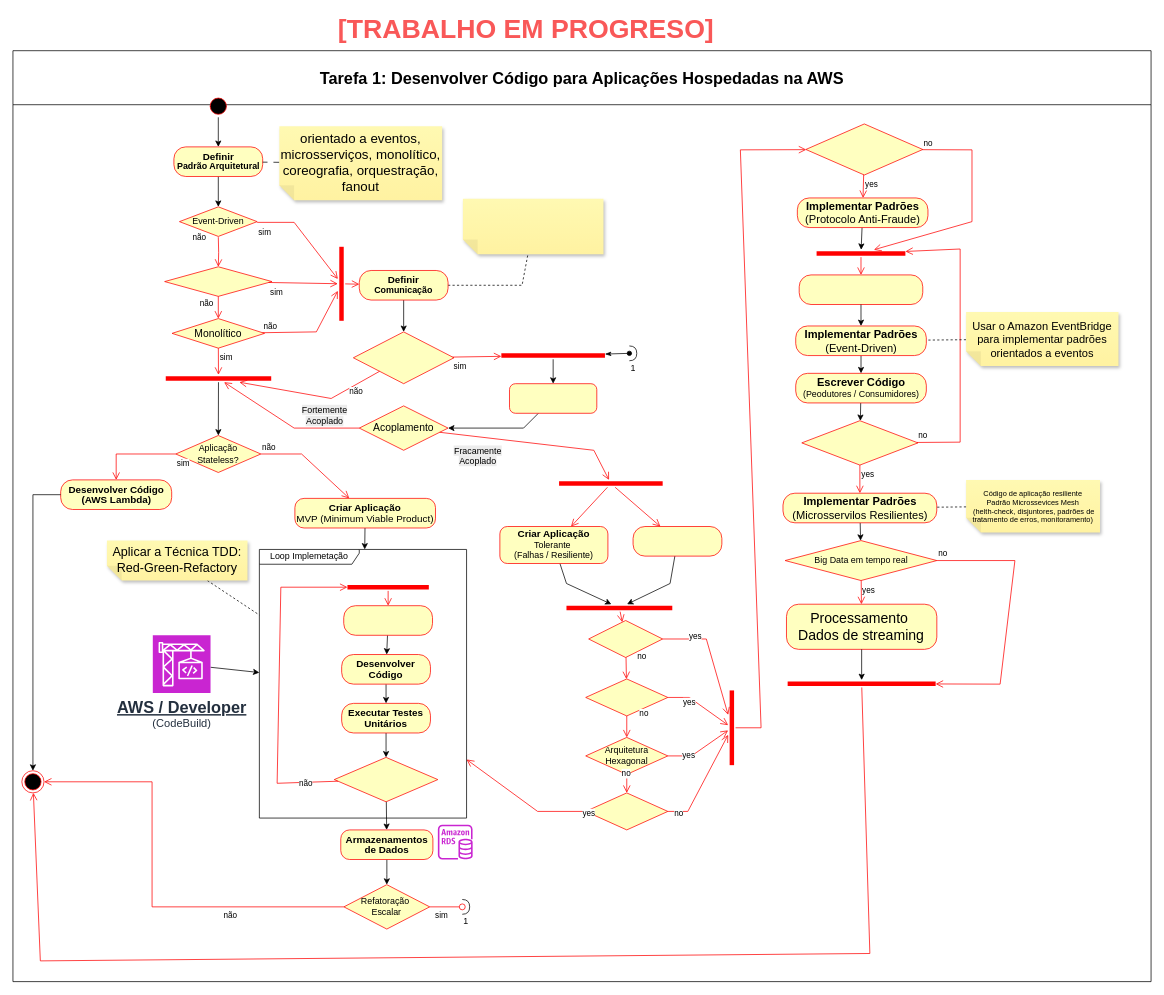
The diagram is 1164 pixels wide and 995 high, and some of its shapes have lost their labels. The shapes that lost their labels are listed below. From the top down, each one's centre as x and y in pixels, then its label:
At point 864,149: "Arquitetura Event-Sourceing".
At point 534,227: "Padrões Síncronos ( Orquestração ) e Assíncronos ( Coreografia )".
At point 218,281: "Microsserviços".
At point 860,289: "Serviços de Mensagens (Kafka / RabbitMQ)".
At point 403,357: "Assíncronos ( Coreografia )".
At point 553,398: "Identificar Componentes".
At point 859,442: "Casos de Uso Implementados".
At point 677,541: "Criar APIs (API First)".
At point 388,620: "Escrever Testes Unitários".
At point 625,638: "Arquitetura CQRS".
At point 626,697: "Arquitetura Clean Arch".
At point 386,779: "Funcionalidades implementadas".
At point 626,811: "Arquitetura MVC".
